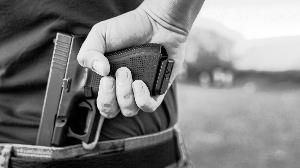handgun: (48, 28, 170, 148)
